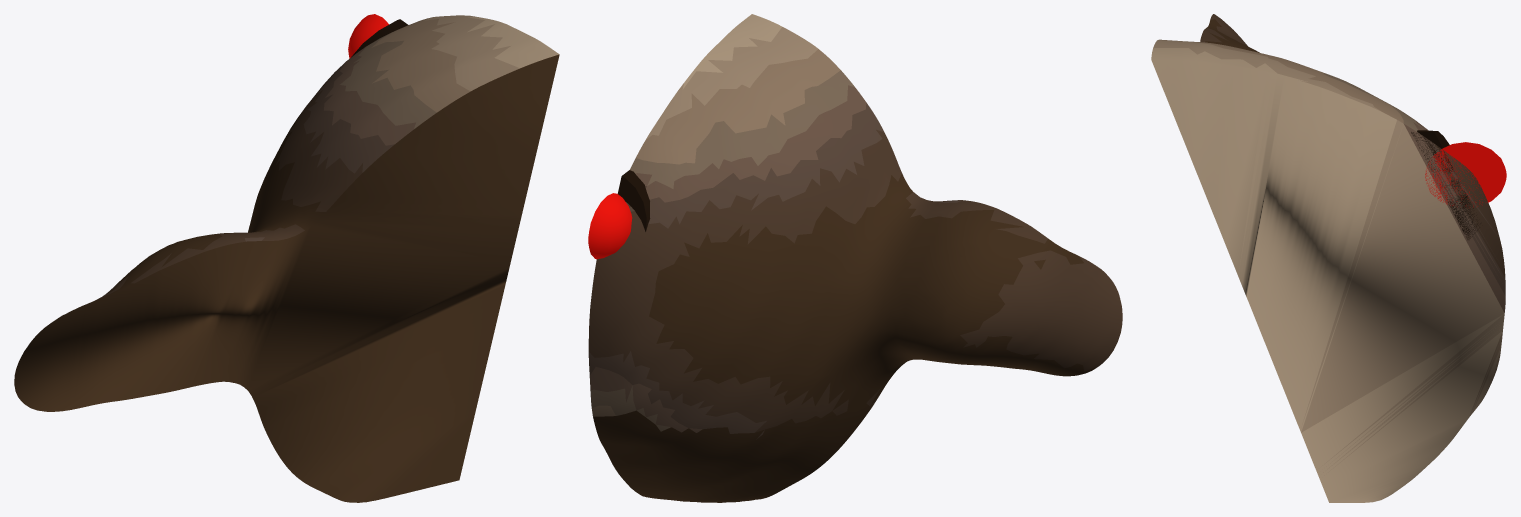
File: tan_dome_tl.glb
3 views of the same model, side by side, from view 1: azimuth 30°, elevation 25°; view 2: azimuth 150°, elevation 25°; view 3: azimuth 270°, elevation 25° (orthographic). The views are drawn at different scales.
Parts seen in each view (by area): view 1: tan_dome_tl; view 2: tan_dome_tl; view 3: tan_dome_tl.
Boxes of the visible parts, x1,y1,x2,y2 form: tan_dome_tl: [14, 14, 559, 502]; tan_dome_tl: [588, 14, 1122, 502]; tan_dome_tl: [1151, 14, 1506, 502].
Size of the model in its own units: 16.88 by 16.17 by 11.76.
